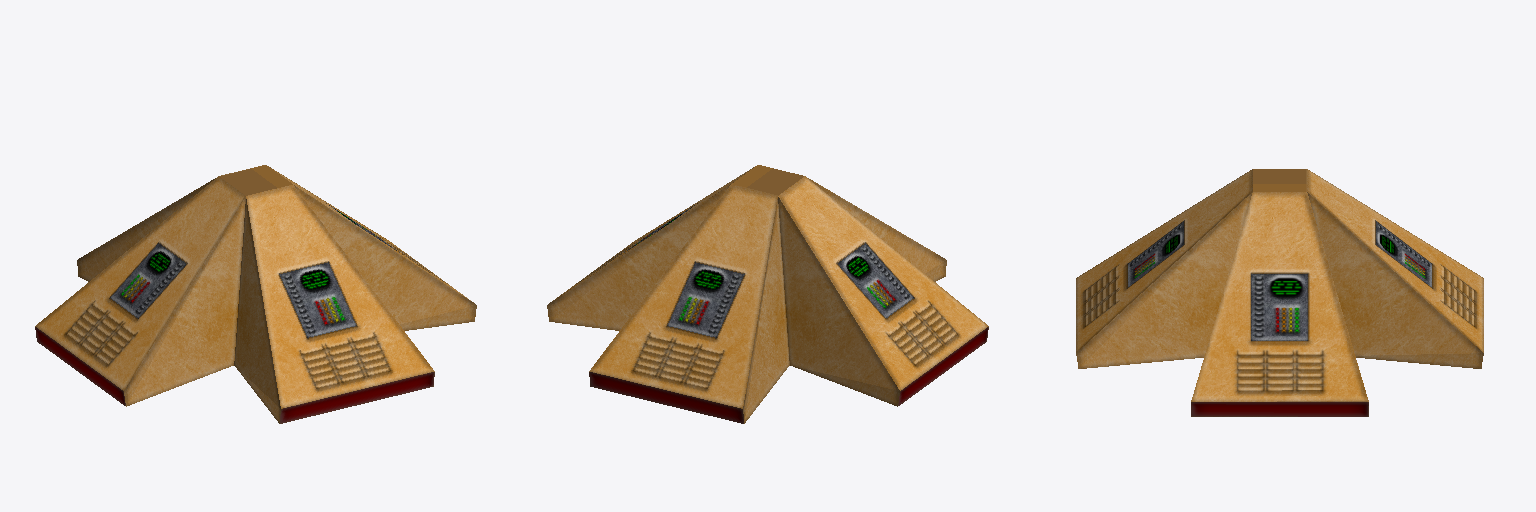
The picture shows the model from 3 angles: view 1: azimuth 30°, elevation 25°; view 2: azimuth 150°, elevation 25°; view 3: azimuth 270°, elevation 25°; orthographic projection.
Parts seen in each view (by area): view 1: cube1_sep6; view 2: cube1_sep6; view 3: cube1_sep6.
Part boxes in pixels (x1,y1,x2,y2): cube1_sep6: (35, 165, 476, 423); cube1_sep6: (547, 165, 988, 423); cube1_sep6: (1076, 169, 1483, 416).
Bounding box in the file's own units: 7.07 × 2.9 × 7.07.
Materials: 1 (1 with a texture image).